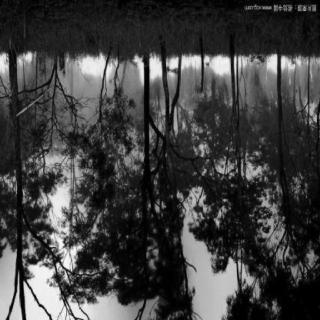Fire: (4, 47, 316, 94)
other: (17, 215, 93, 319)
